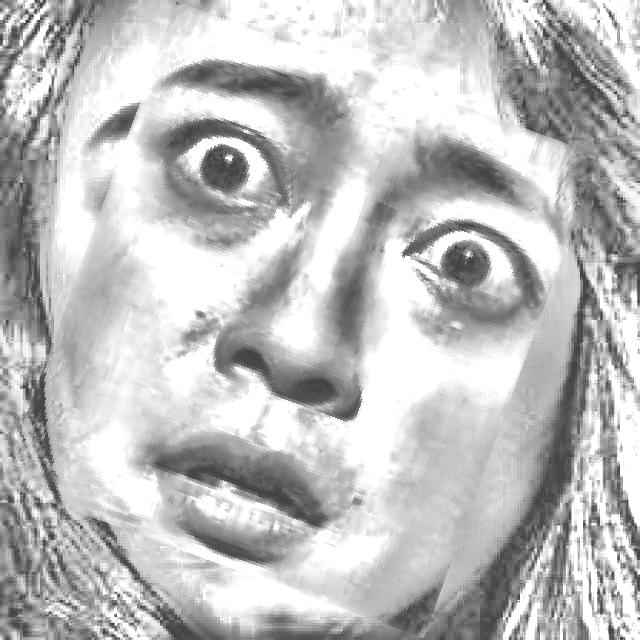fear: (38, 32, 562, 608)
